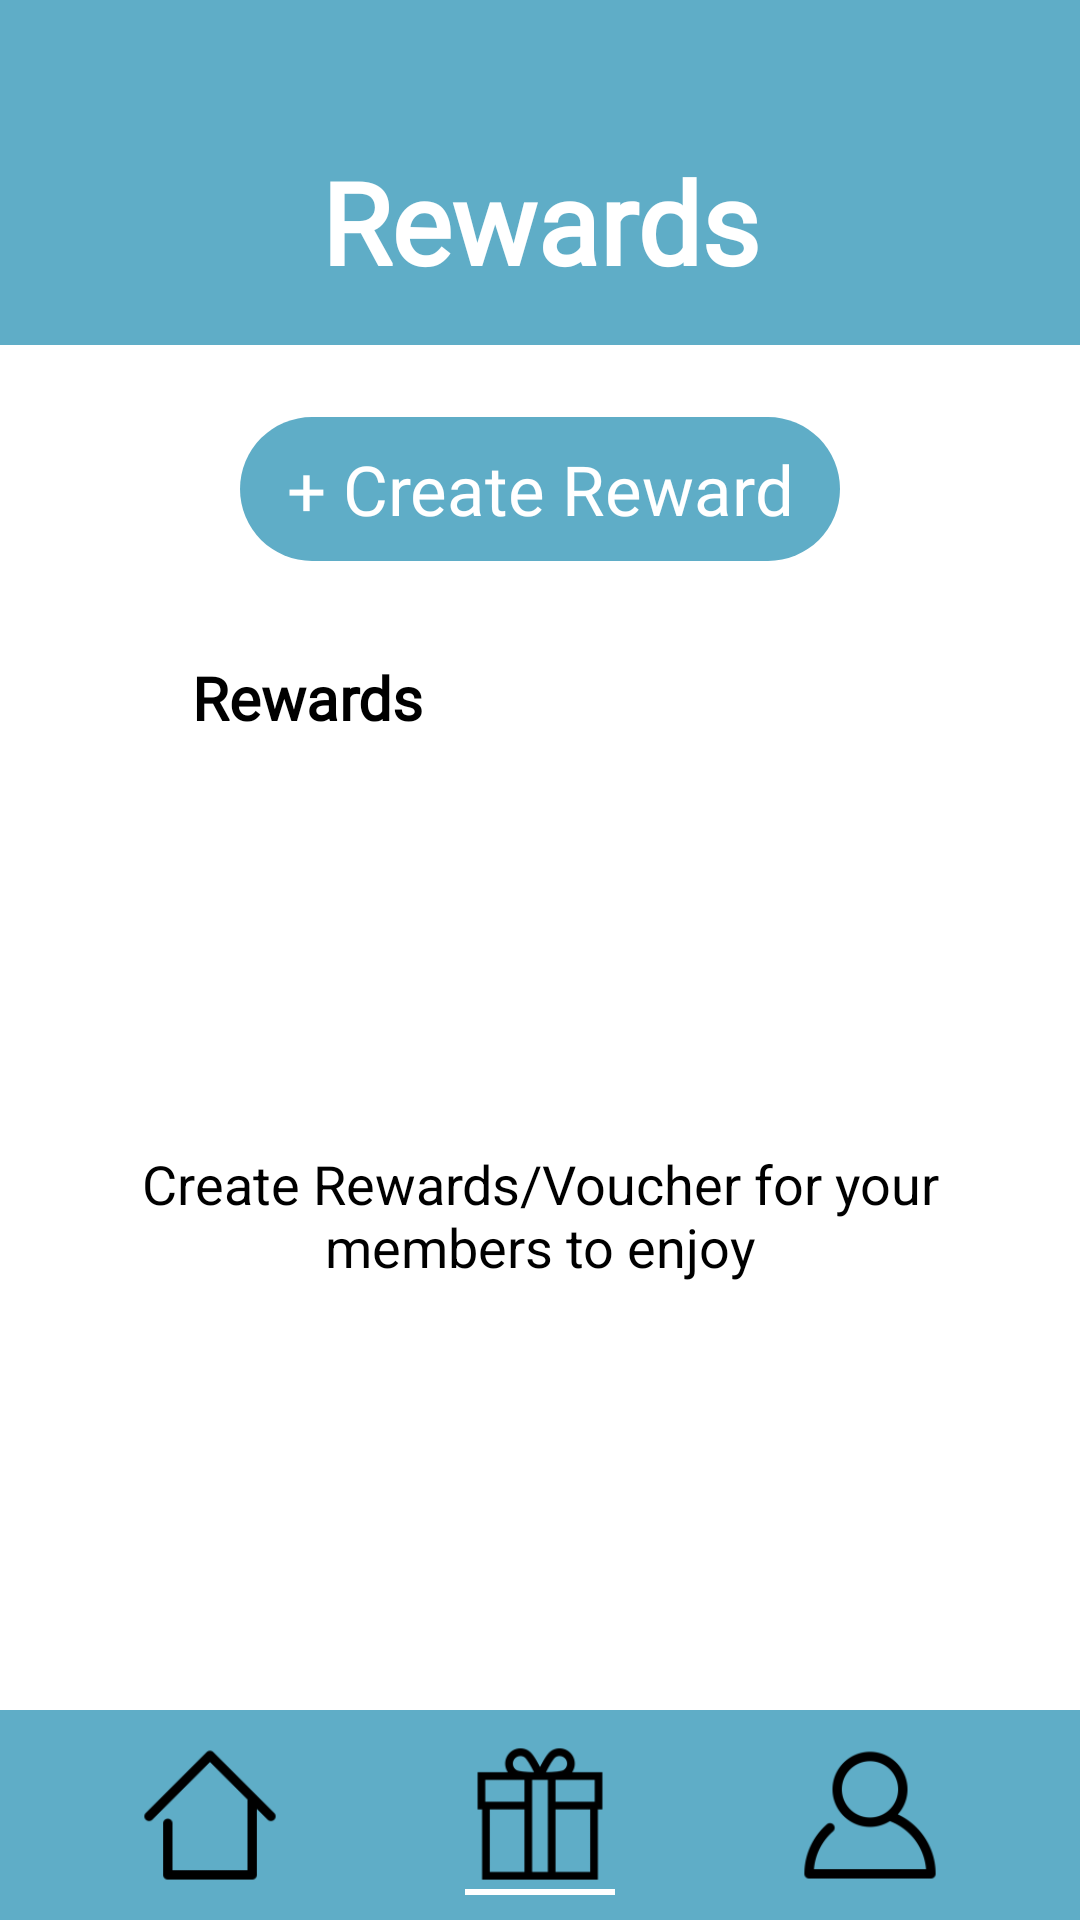

Where icons sit on this 1080 × 1920 app screen, as (x1, y1, x2, y2):
home: (144, 1750, 276, 1880)
profile: (804, 1751, 936, 1879)
reward: (477, 1748, 603, 1880)
